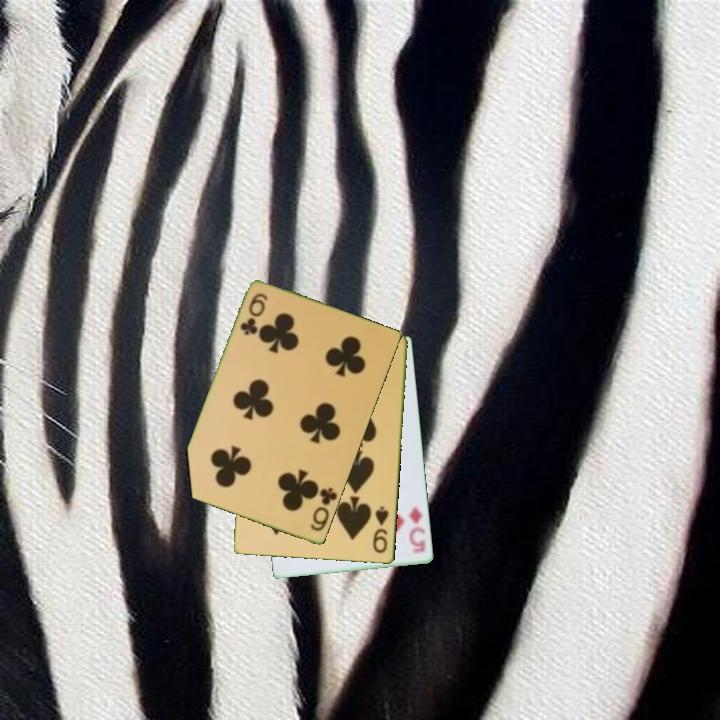5d: (406, 503, 430, 556)
6c: (237, 290, 271, 339), (307, 484, 340, 534)
9s: (369, 503, 392, 556)
